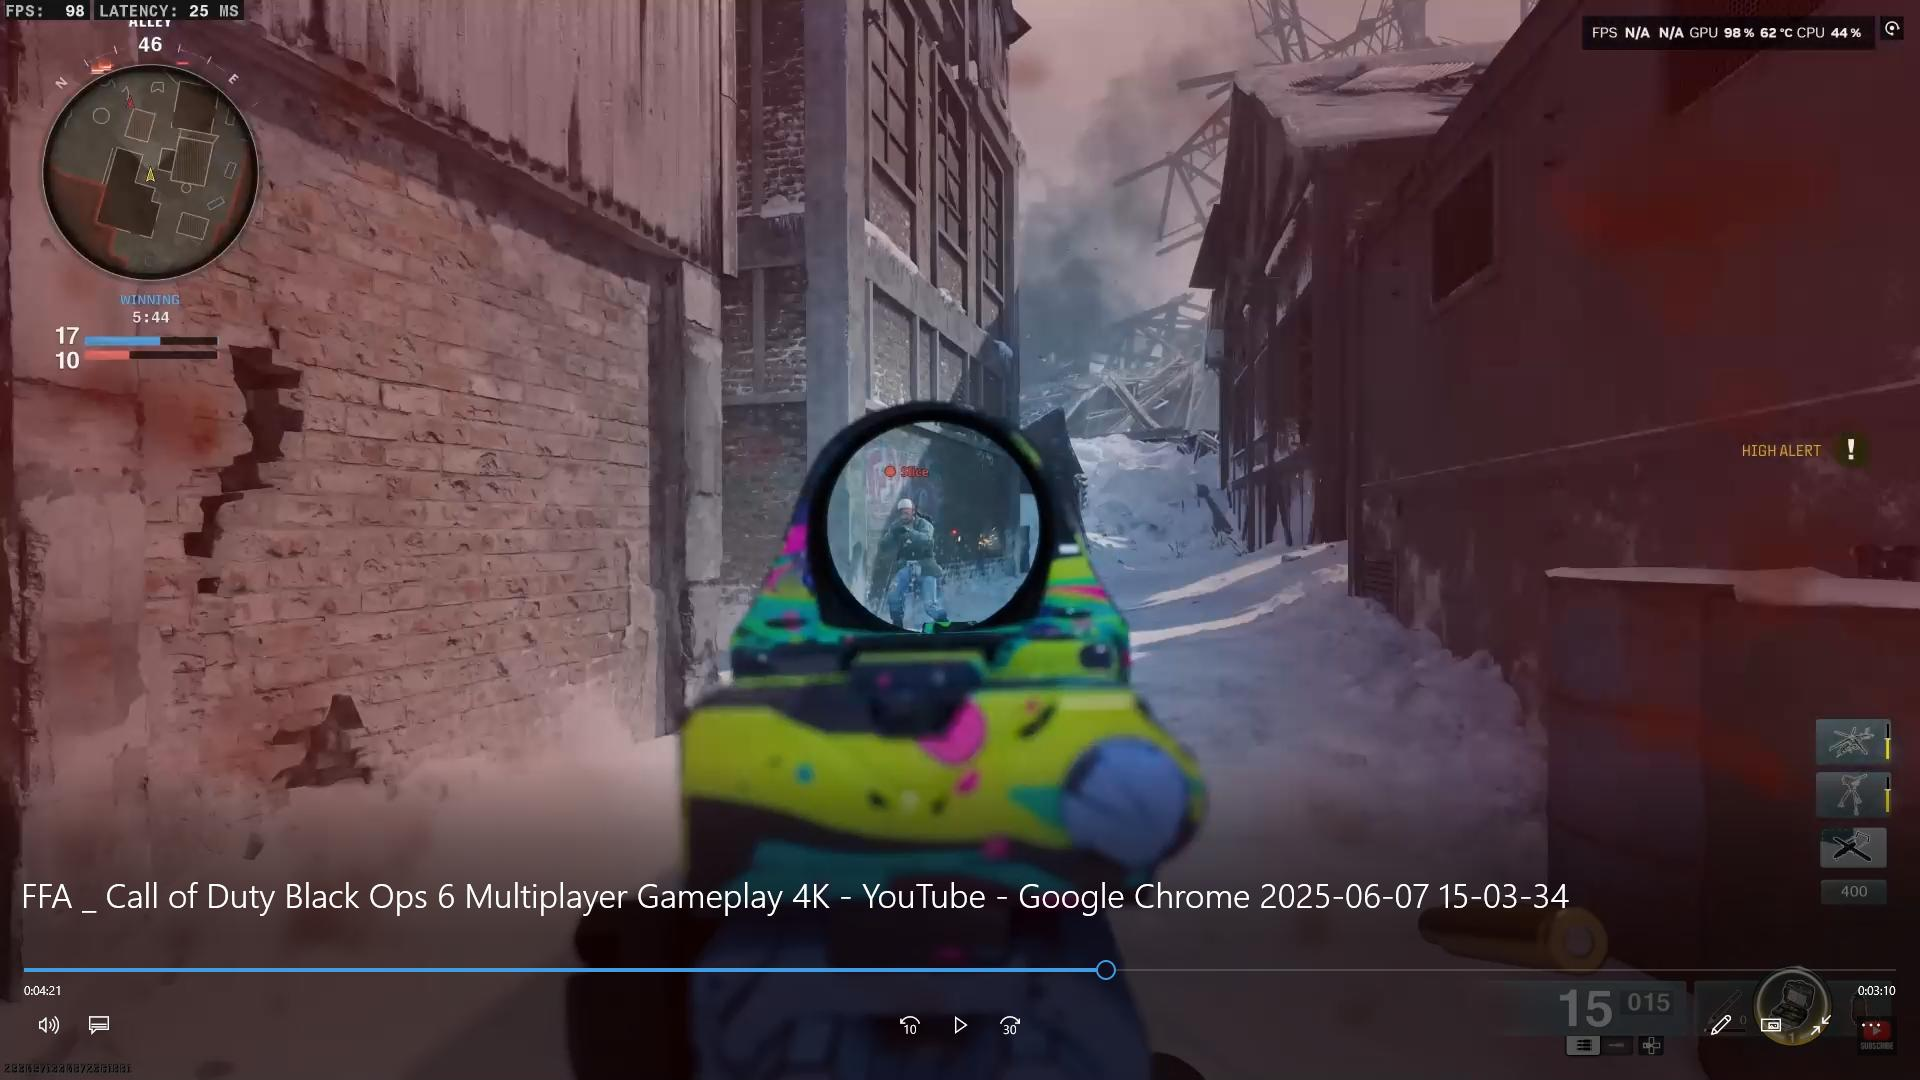Enemy: (885, 493, 948, 628)
